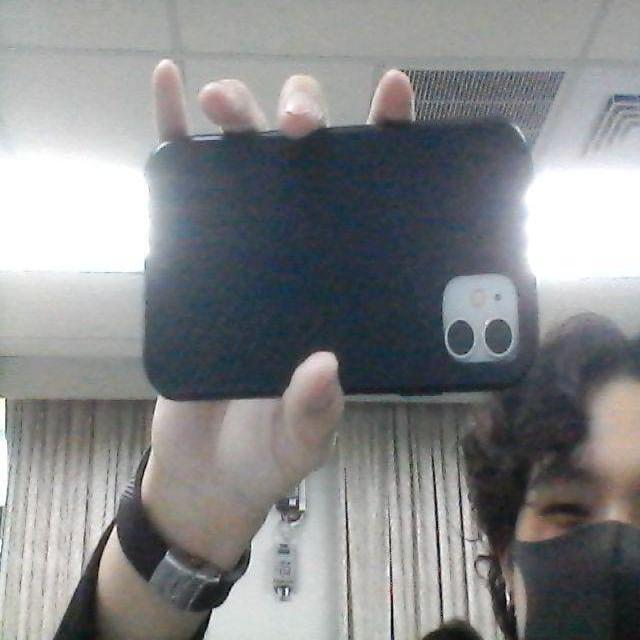mobile: (139, 99, 538, 418)
